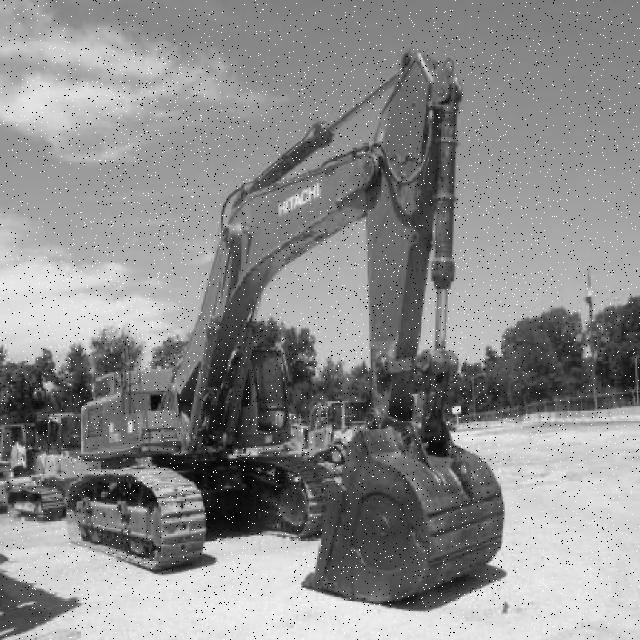Construction Equipment: (65, 49, 505, 606)
